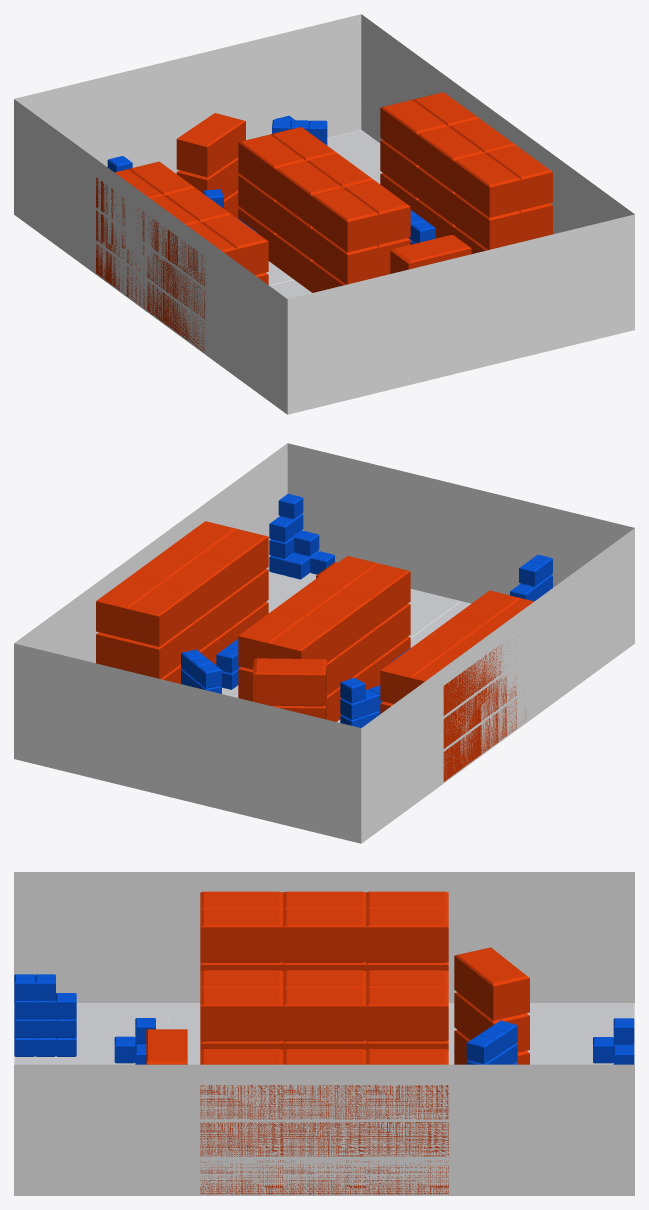
File: Map.glb
The picture shows the model from 3 angles, top to bottom: view 1: azimuth 30°, elevation 25°; view 2: azimuth 150°, elevation 25°; view 3: azimuth 270°, elevation 25°; orthographic projection. The views are drawn at different scales.
Parts seen in each view (by area): view 1: Plane, Cube.062, Cube.010, Cube.170, Cube.056, Cube.004, Cube.092, Cube.116, Cube.059, Cube.007, Cube.011, Cube.063 (+28 smaller); view 2: Plane, Cube.170, Cube.116, Cube.056, Cube.092, Cube.004, Cube.010, Cube.062, Cube.113, Cube.117, Cube.111, Cube.093 (+18 smaller); view 3: Plane, Cube.047, Cube.111, Cube.005, Cube.011, Cube.041, Cube.093, Cube.170, Cube.061, Cube.055, Cube.115, Cube.057 (+30 smaller).
Boxes of the visible parts, <box> form: Plane: <box>14,14,634,414</box>; Cube.062: <box>453,153,521,217</box>; Cube.010: <box>311,188,379,252</box>; Cube.170: <box>176,113,245,177</box>; Cube.056: <box>416,126,484,190</box>; Cube.004: <box>274,161,342,225</box>; Cube.092: <box>238,134,305,198</box>; Cube.116: <box>380,100,447,163</box>; Cube.059: <box>453,193,521,249</box>; Cube.007: <box>311,228,379,284</box>; Cube.011: <box>343,180,410,244</box>; Cube.063: <box>485,145,552,209</box>; Plane: <box>14,443,634,843</box>; Cube.170: <box>253,658,326,706</box>; Cube.116: <box>127,582,195,646</box>; Cube.056: <box>164,555,232,619</box>; Cube.092: <box>269,617,337,662</box>; Cube.004: <box>306,590,374,654</box>; Cube.010: <box>343,563,410,627</box>; Cube.062: <box>201,529,268,592</box>; Cube.113: <box>127,622,195,678</box>; Cube.117: <box>96,574,163,638</box>; Cube.111: <box>380,644,447,703</box>; Cube.093: <box>238,609,305,669</box>; Plane: <box>14,872,634,1195</box>; Cube.047: <box>200,909,282,962</box>; Cube.111: <box>366,909,448,962</box>; Cube.005: <box>283,988,365,1041</box>; Cube.011: <box>200,988,282,1041</box>; Cube.041: <box>283,909,365,962</box>; Cube.093: <box>366,988,448,1041</box>; Cube.170: <box>454,947,529,1020</box>; Cube.061: <box>200,1122,282,1156</box>; Cube.055: <box>283,1122,365,1156</box>; Cube.115: <box>366,1122,448,1156</box>; Cube.057: <box>283,1085,365,1119</box>.
Size of the model in its own units: 44 by 14.02 by 60.
3 materials, 1 textured.
